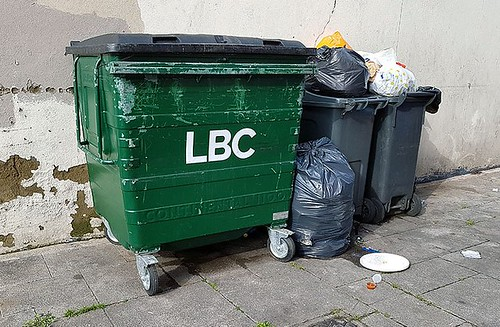dumpster: (71, 29, 320, 269)
trash: (284, 134, 360, 264), (309, 41, 429, 90)
trash can: (311, 48, 384, 241), (373, 77, 441, 228)
